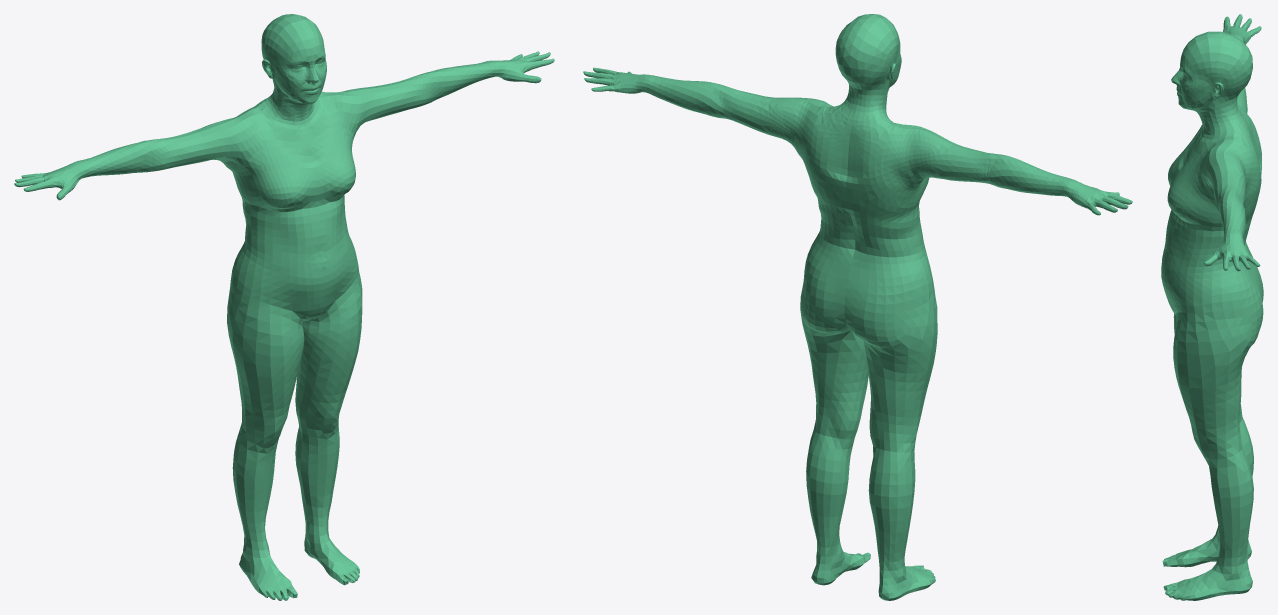
File: digital_twin_scenario.glb
3 renders of one model, left to right at view 1: azimuth 30°, elevation 25°; view 2: azimuth 150°, elevation 25°; view 3: azimuth 270°, elevation 25°, orthographic. The views are drawn at different scales.
Parts seen in each view (by area): view 1: world; view 2: world; view 3: world.
Boxes of the visible parts, x1,y1,x2,y2 form: world: [14, 14, 554, 600]; world: [583, 14, 1132, 600]; world: [1161, 14, 1263, 600].
Size of the model in its own units: 1.6 by 1.59 by 0.2708.
